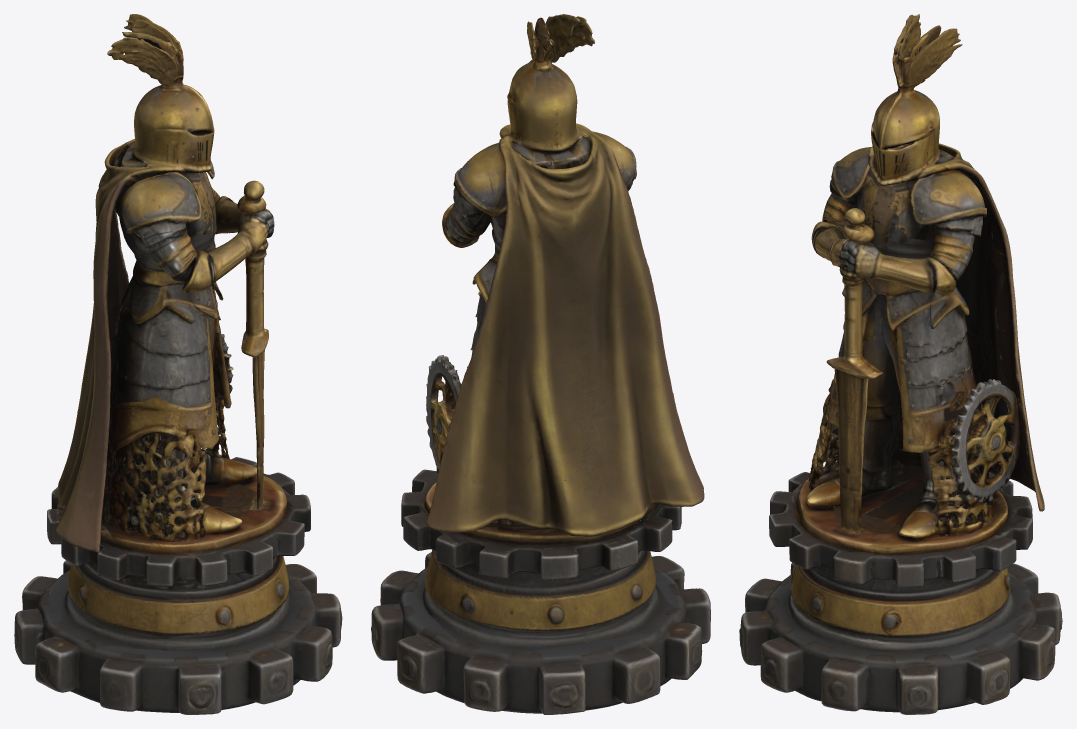
File: knight.glb
3 renders of one model, left to right at view 1: azimuth 30°, elevation 25°; view 2: azimuth 150°, elevation 25°; view 3: azimuth 270°, elevation 25°, orthographic. The views are drawn at different scales.
Parts seen in each view (by area): view 1: Object_4, Object_5, Object_6; view 2: Object_4, Object_5, Object_6; view 3: Object_4, Object_5, Object_6.
Part boxes in pixels (x1=…): Object_4: x1=14, y1=14, x2=342, y2=714; Object_5: x1=31, y1=19, x2=331, y2=714; Object_6: x1=14, y1=14, x2=339, y2=713; Object_4: x1=375, y1=22, x2=706, y2=714; Object_5: x1=371, y1=14, x2=710, y2=710; Object_6: x1=372, y1=16, x2=710, y2=714; Object_4: x1=742, y1=24, x2=1055, y2=714; Object_5: x1=739, y1=14, x2=1062, y2=714; Object_6: x1=741, y1=15, x2=1062, y2=712.
Size of the model in its own units: 0.9456 by 1.99 by 0.9377.
Materials: 1 (1 with a texture image).
